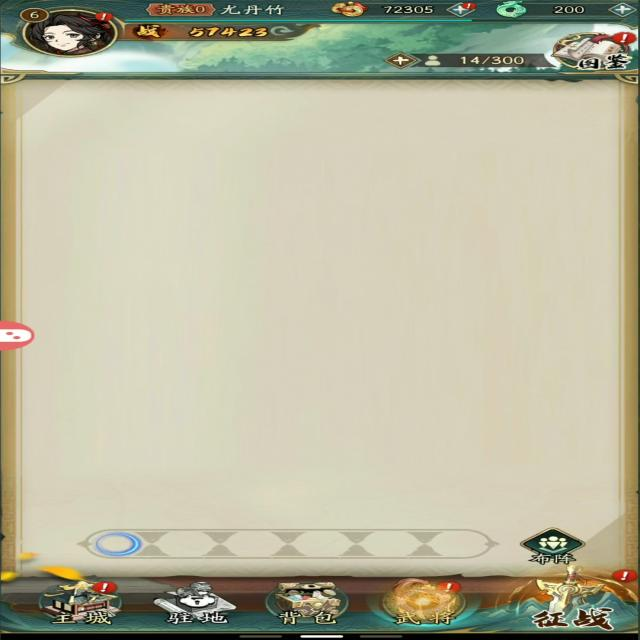hint-reddot: (607, 567, 640, 585), (432, 581, 467, 596), (610, 30, 640, 47), (88, 581, 120, 596), (87, 10, 118, 23), (458, 2, 472, 10)
navigation-bag: (257, 574, 358, 624)
navigation-fight: (497, 566, 640, 634)
navigation-hero: (375, 574, 463, 626)
navigation-main: (34, 574, 136, 628)
navigation-role: (6, 1, 125, 59)
navigation-station-off: (149, 578, 244, 629)
navigation-station-on: (544, 25, 640, 72)
operation-HeroAddBag: (376, 47, 446, 72)
operation-Vip: (140, 1, 215, 18)
operation-deployment: (519, 528, 592, 568)
